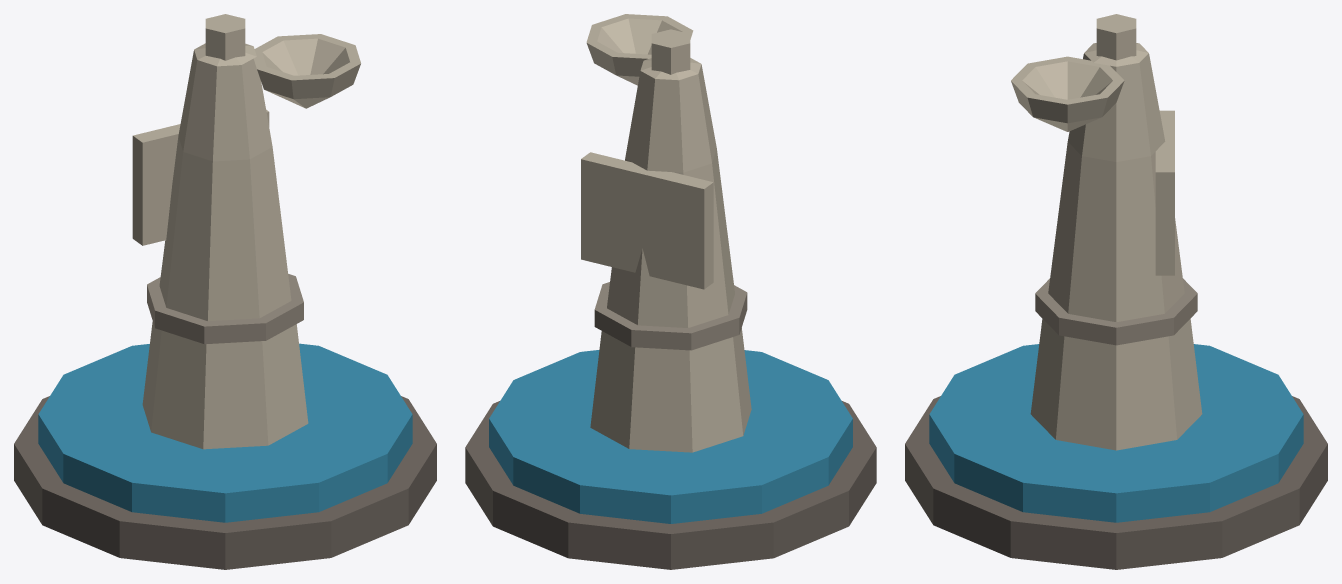
Rendered from statue_goddess.fbx.
3 renders of one model, left to right at view 1: azimuth 30°, elevation 25°; view 2: azimuth 150°, elevation 25°; view 3: azimuth 270°, elevation 25°, orthographic. The views are drawn at different scales.
Parts seen in each view (by area): view 1: statue_goddess; view 2: statue_goddess; view 3: statue_goddess.
Part boxes in pixels (box(x1,y1,x2,y2)): statue_goddess: box(14, 14, 436, 569); statue_goddess: box(465, 14, 876, 569); statue_goddess: box(905, 14, 1327, 569).
Size of the model in its own units: 2.6 by 3.1 by 2.6.
